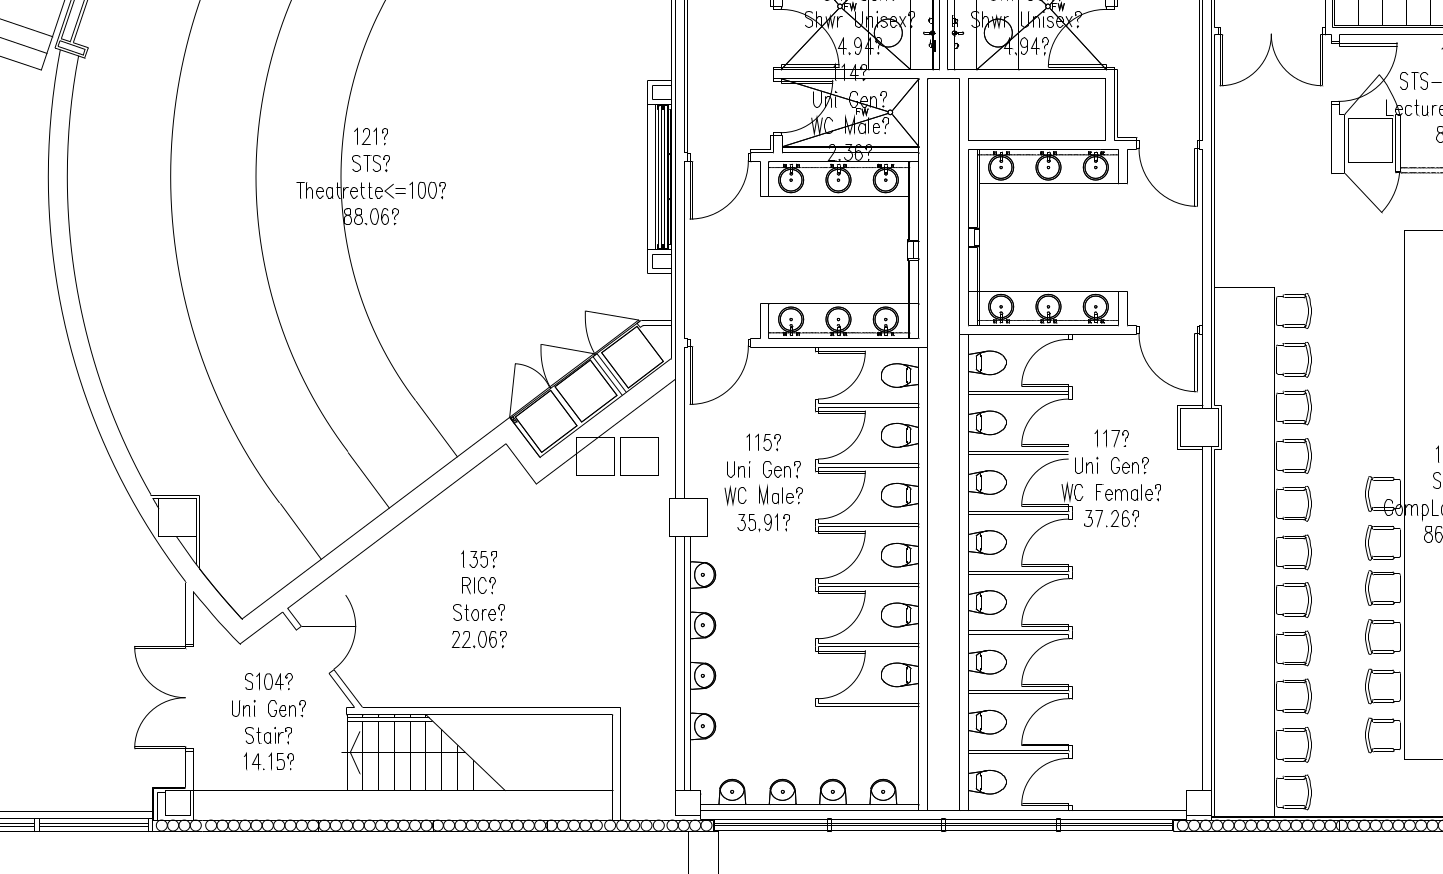door: (122, 643, 189, 754), (1216, 31, 1325, 90), (297, 590, 365, 675), (1330, 39, 1408, 101), (687, 345, 756, 413), (687, 161, 756, 229), (1136, 330, 1200, 398), (1135, 148, 1199, 216), (799, 587, 874, 640), (800, 646, 875, 699), (1016, 693, 1082, 746), (1016, 635, 1082, 688), (1012, 396, 1078, 449), (1014, 755, 1080, 808), (1017, 577, 1083, 630), (1016, 517, 1082, 570), (1012, 452, 1078, 505), (1010, 336, 1076, 389), (804, 468, 868, 519), (802, 529, 866, 580), (804, 348, 868, 399), (805, 409, 869, 460), (1341, 172, 1404, 217)
